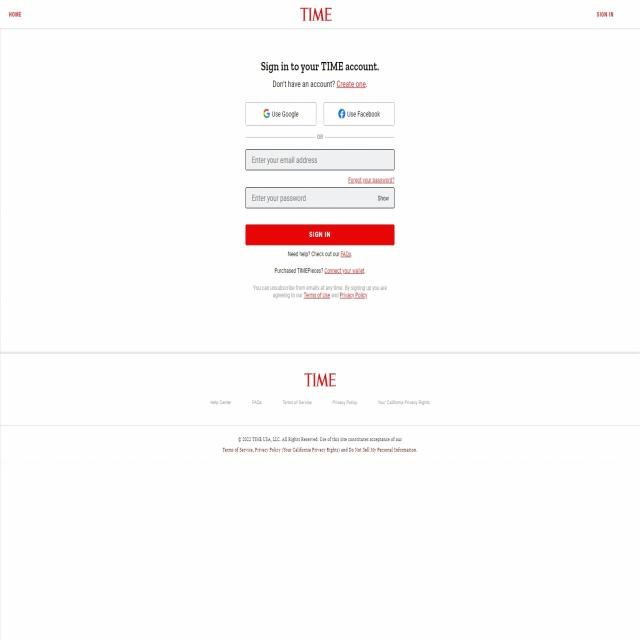menu-bar: (203, 395, 433, 408)
